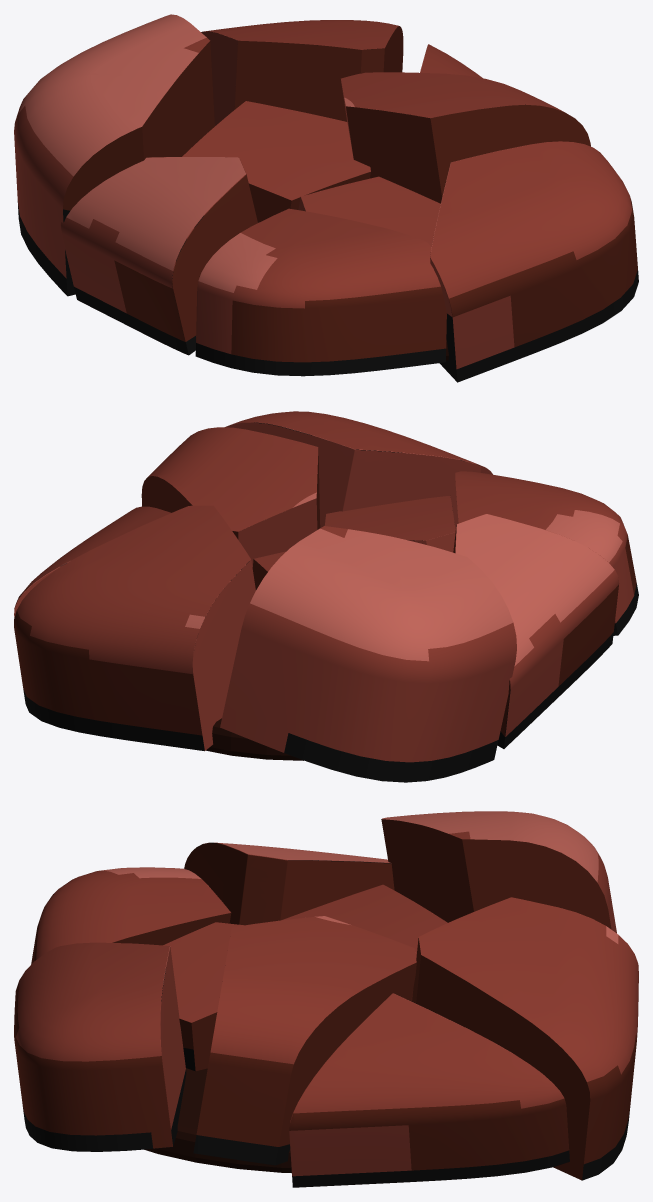
File: block_rubble_brown.glb
3 renders of one model, top to bottom at view 1: azimuth 30°, elevation 25°; view 2: azimuth 150°, elevation 25°; view 3: azimuth 270°, elevation 25°, orthographic. The views are drawn at different scales.
Parts seen in each view (by area): view 1: block_rubble; view 2: block_rubble; view 3: block_rubble.
Boxes of the visible parts, <box> form: block_rubble: <box>14,14,638,382</box>; block_rubble: <box>14,411,638,782</box>; block_rubble: <box>14,811,638,1187</box>.
Size of the model in its own units: 23.23 by 10.22 by 25.94.
